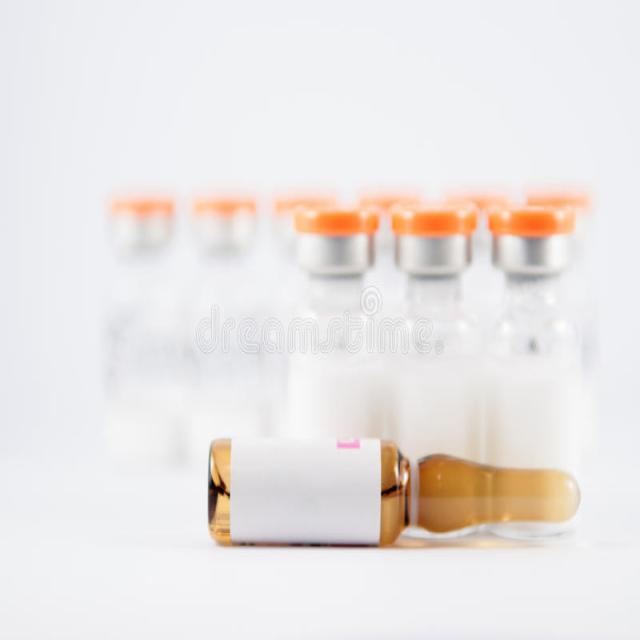B3: (196, 422, 590, 583)
